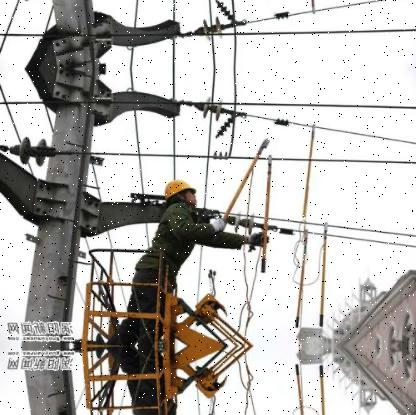helmet: (165, 177, 199, 211)
